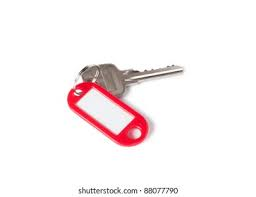key: (73, 55, 191, 102)
